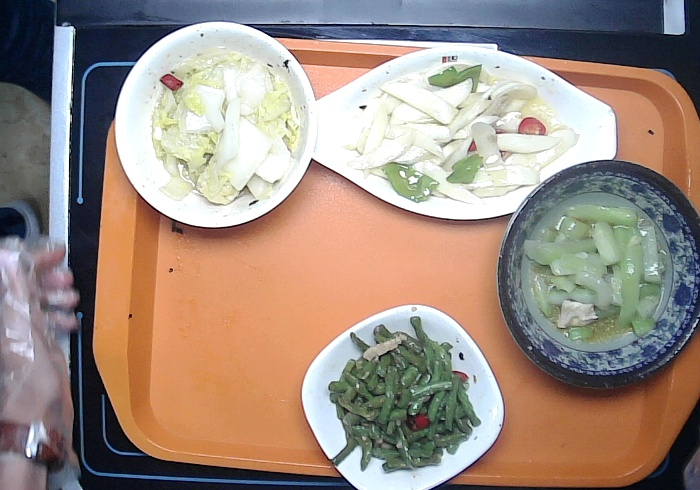ZNLD-Qing_Hua_Wan: (495, 156, 700, 394)
ZNLD-Si_Fang_Wan: (300, 302, 505, 490)
ZNLD-Tang_Wan: (113, 20, 319, 229)
ZNLD-Yu_Pan: (307, 43, 618, 221)
